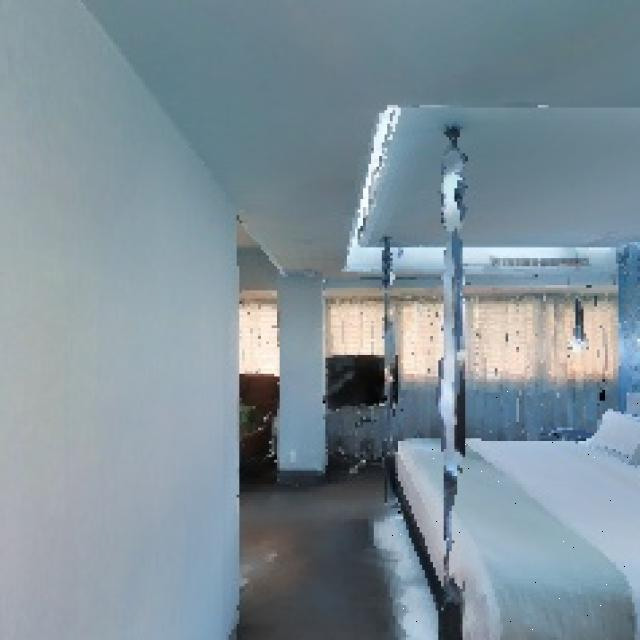bed: (387, 387, 640, 640)
